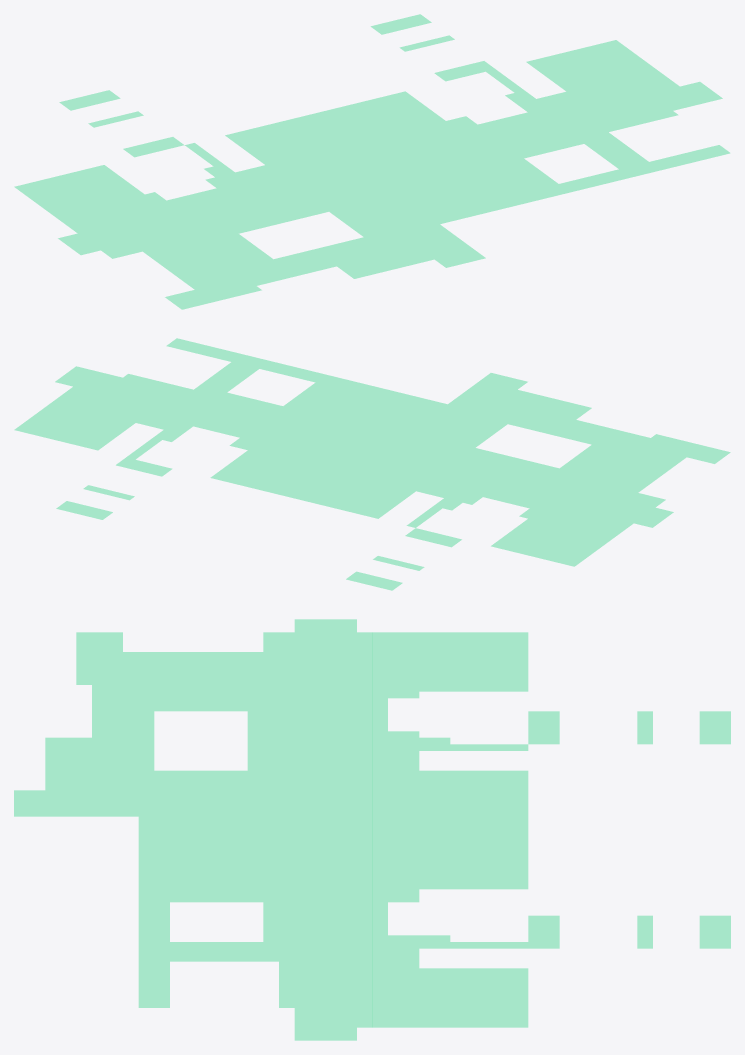
The model's file is navmesh.glb.
The picture shows the model from 3 angles, top to bottom: view 1: azimuth 30°, elevation 25°; view 2: azimuth 150°, elevation 25°; view 3: azimuth 270°, elevation 25°; orthographic projection. The views are drawn at different scales.
Visible parts, largest first — view 1: NAVMESH; view 2: NAVMESH; view 3: NAVMESH.
Part boxes in pixels (x1,y1,x2,y2): NAVMESH: [14, 14, 729, 309]; NAVMESH: [14, 338, 730, 590]; NAVMESH: [14, 619, 730, 1040].
Size of the model in its own units: 16 by 0 by 11.5.
